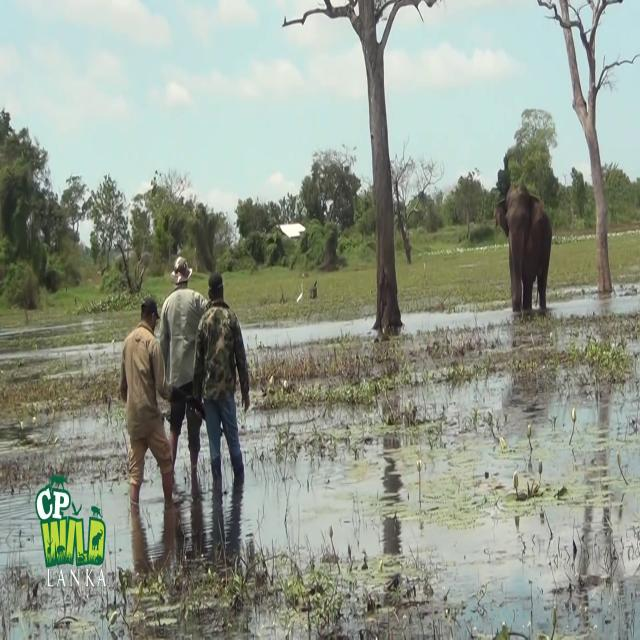Elephant: (494, 184, 552, 314)
person: (119, 296, 188, 508), (192, 271, 250, 492), (159, 256, 210, 500)
